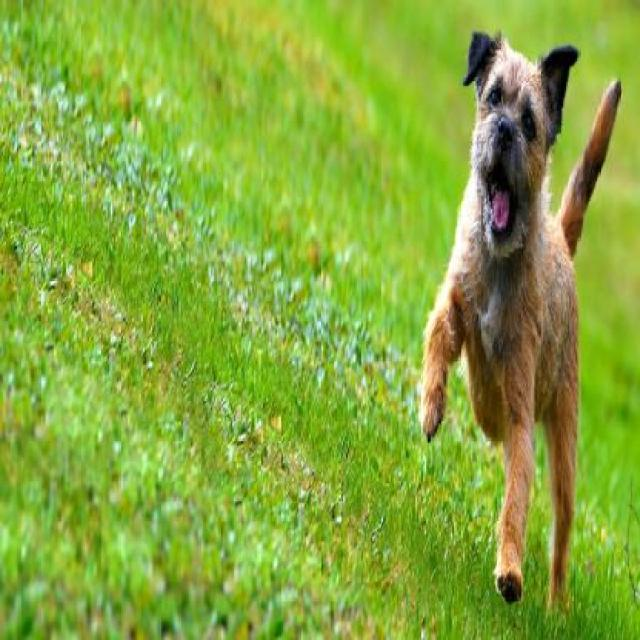animals: (414, 23, 624, 628)
